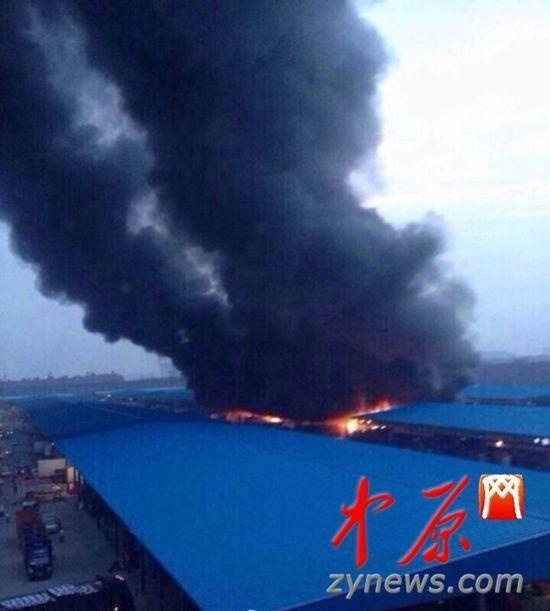fire: (336, 397, 388, 434)
